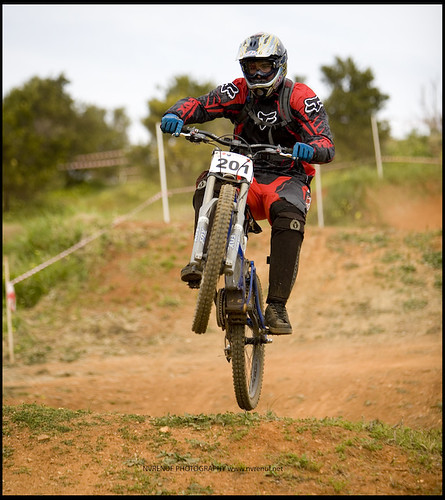helmet: (239, 24, 291, 101)
